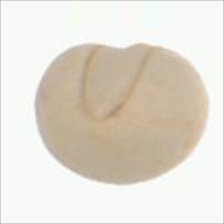L5: (79, 42, 154, 123)
L6: (34, 43, 211, 186)
